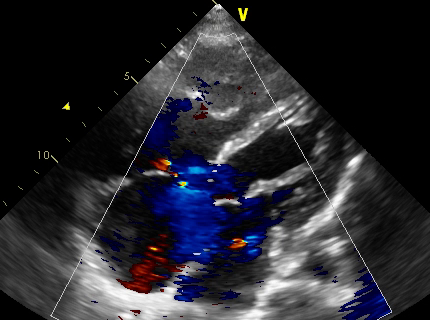TR: (146, 152, 216, 217)
